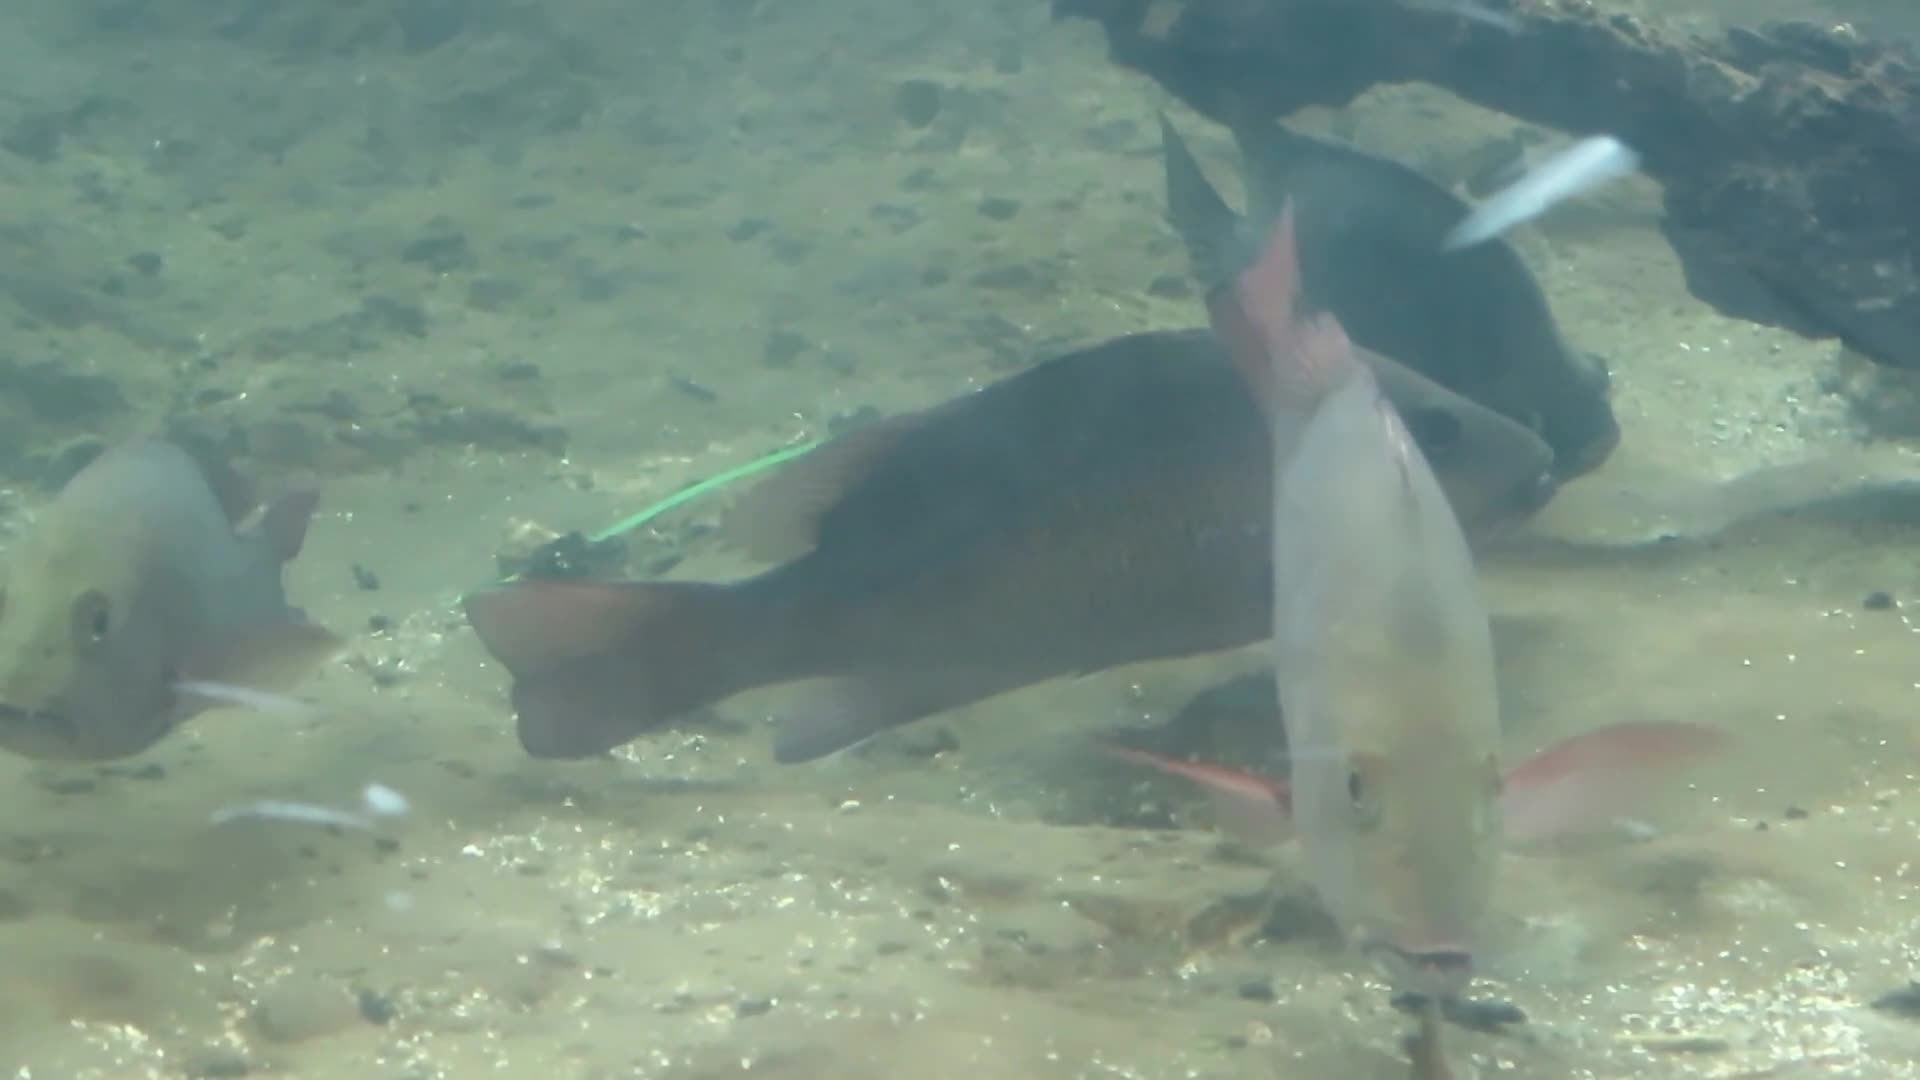Lutjanus argentimaculatus: (702, 284, 1568, 745), (9, 429, 368, 796)
